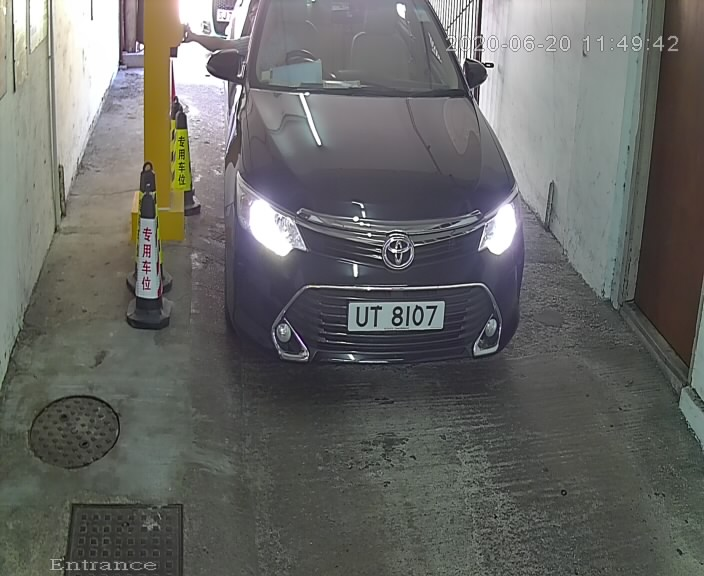privatecar: (204, 3, 539, 410)
